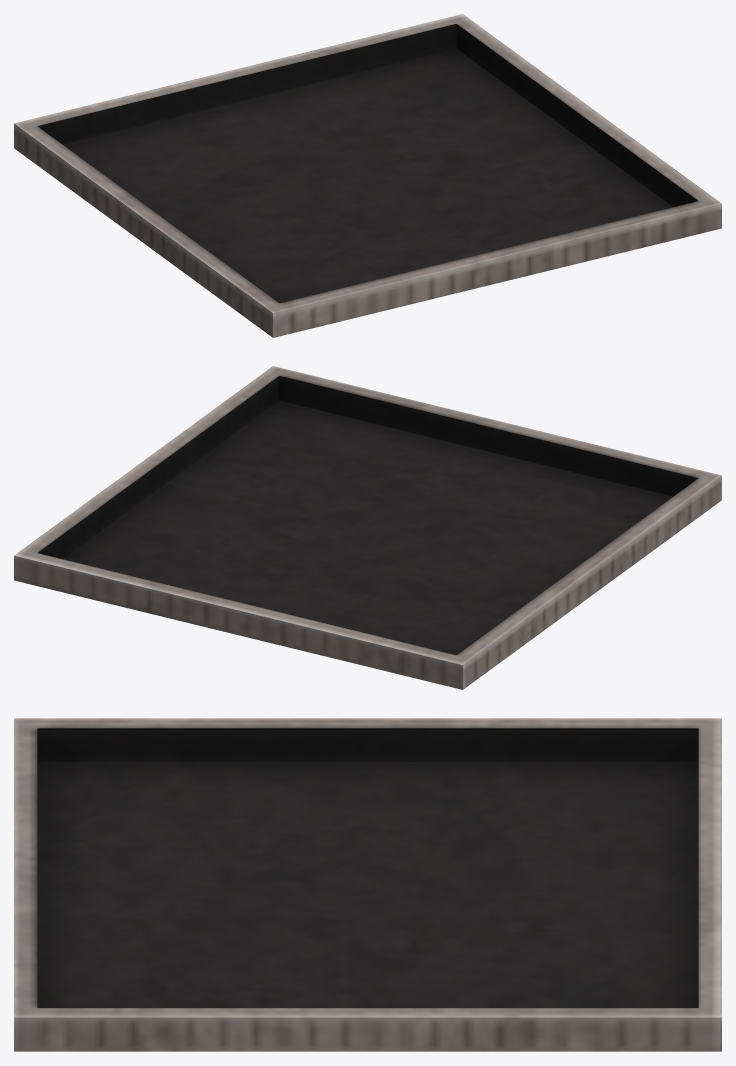
Rendered from B7_Roof.FBX.
The picture shows the model from 3 angles, top to bottom: view 1: azimuth 30°, elevation 25°; view 2: azimuth 150°, elevation 25°; view 3: azimuth 270°, elevation 25°; orthographic projection. The views are drawn at different scales.
Visible parts, largest first — view 1: B7_Roof; view 2: B7_Roof; view 3: B7_Roof.
Part boxes in pixels (bbox=[...]): B7_Roof: bbox=[14, 14, 721, 337]; B7_Roof: bbox=[14, 366, 721, 689]; B7_Roof: bbox=[14, 718, 721, 1051].
Size of the model in its own units: 12 by 0.6329 by 12.
